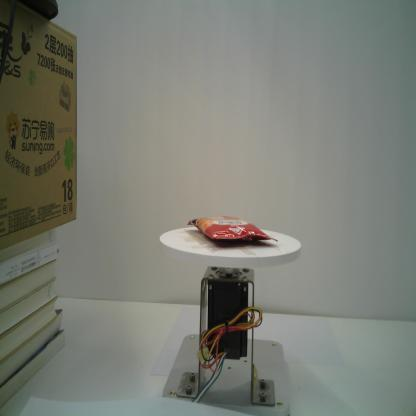Instant Drink: (186, 214, 280, 244)
